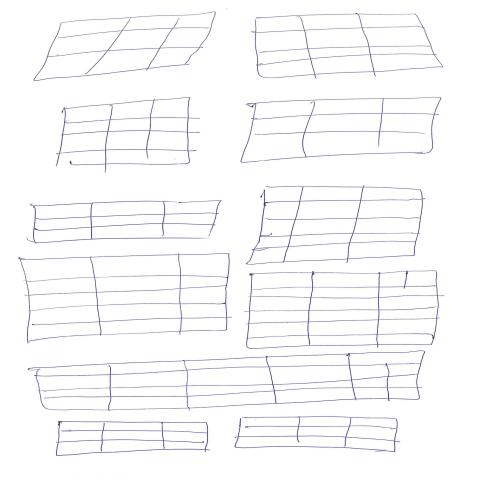Image: (32, 349, 428, 415), (19, 253, 231, 344), (247, 270, 441, 351), (241, 186, 428, 268), (239, 96, 443, 166), (29, 10, 219, 84), (252, 13, 446, 81), (54, 96, 195, 170), (29, 198, 223, 246), (54, 421, 212, 459), (232, 416, 401, 451)
